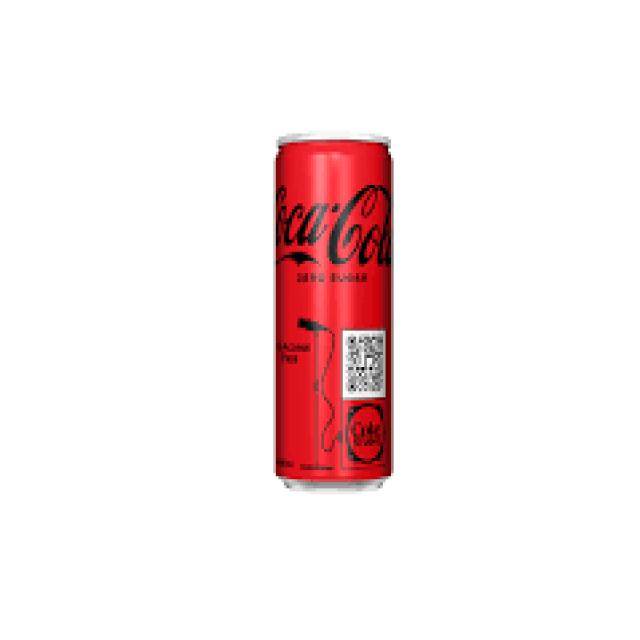aluminum_can: (276, 140, 394, 487)
